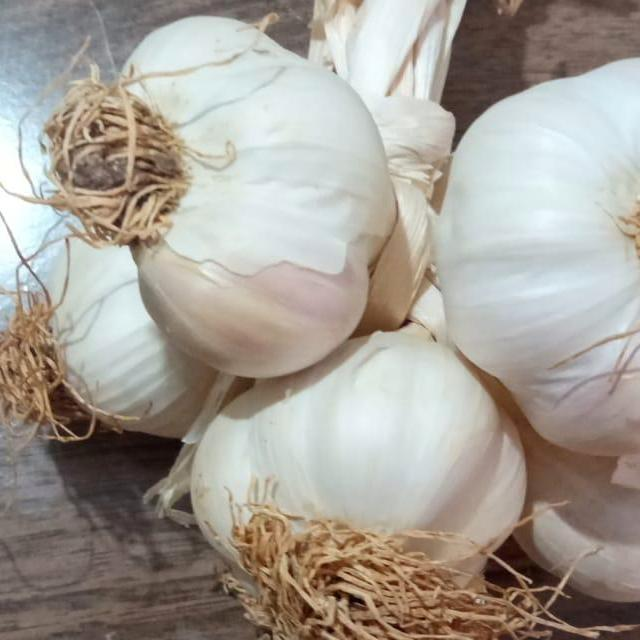garlic: (35, 0, 400, 390), (182, 272, 535, 640), (407, 50, 640, 470)
